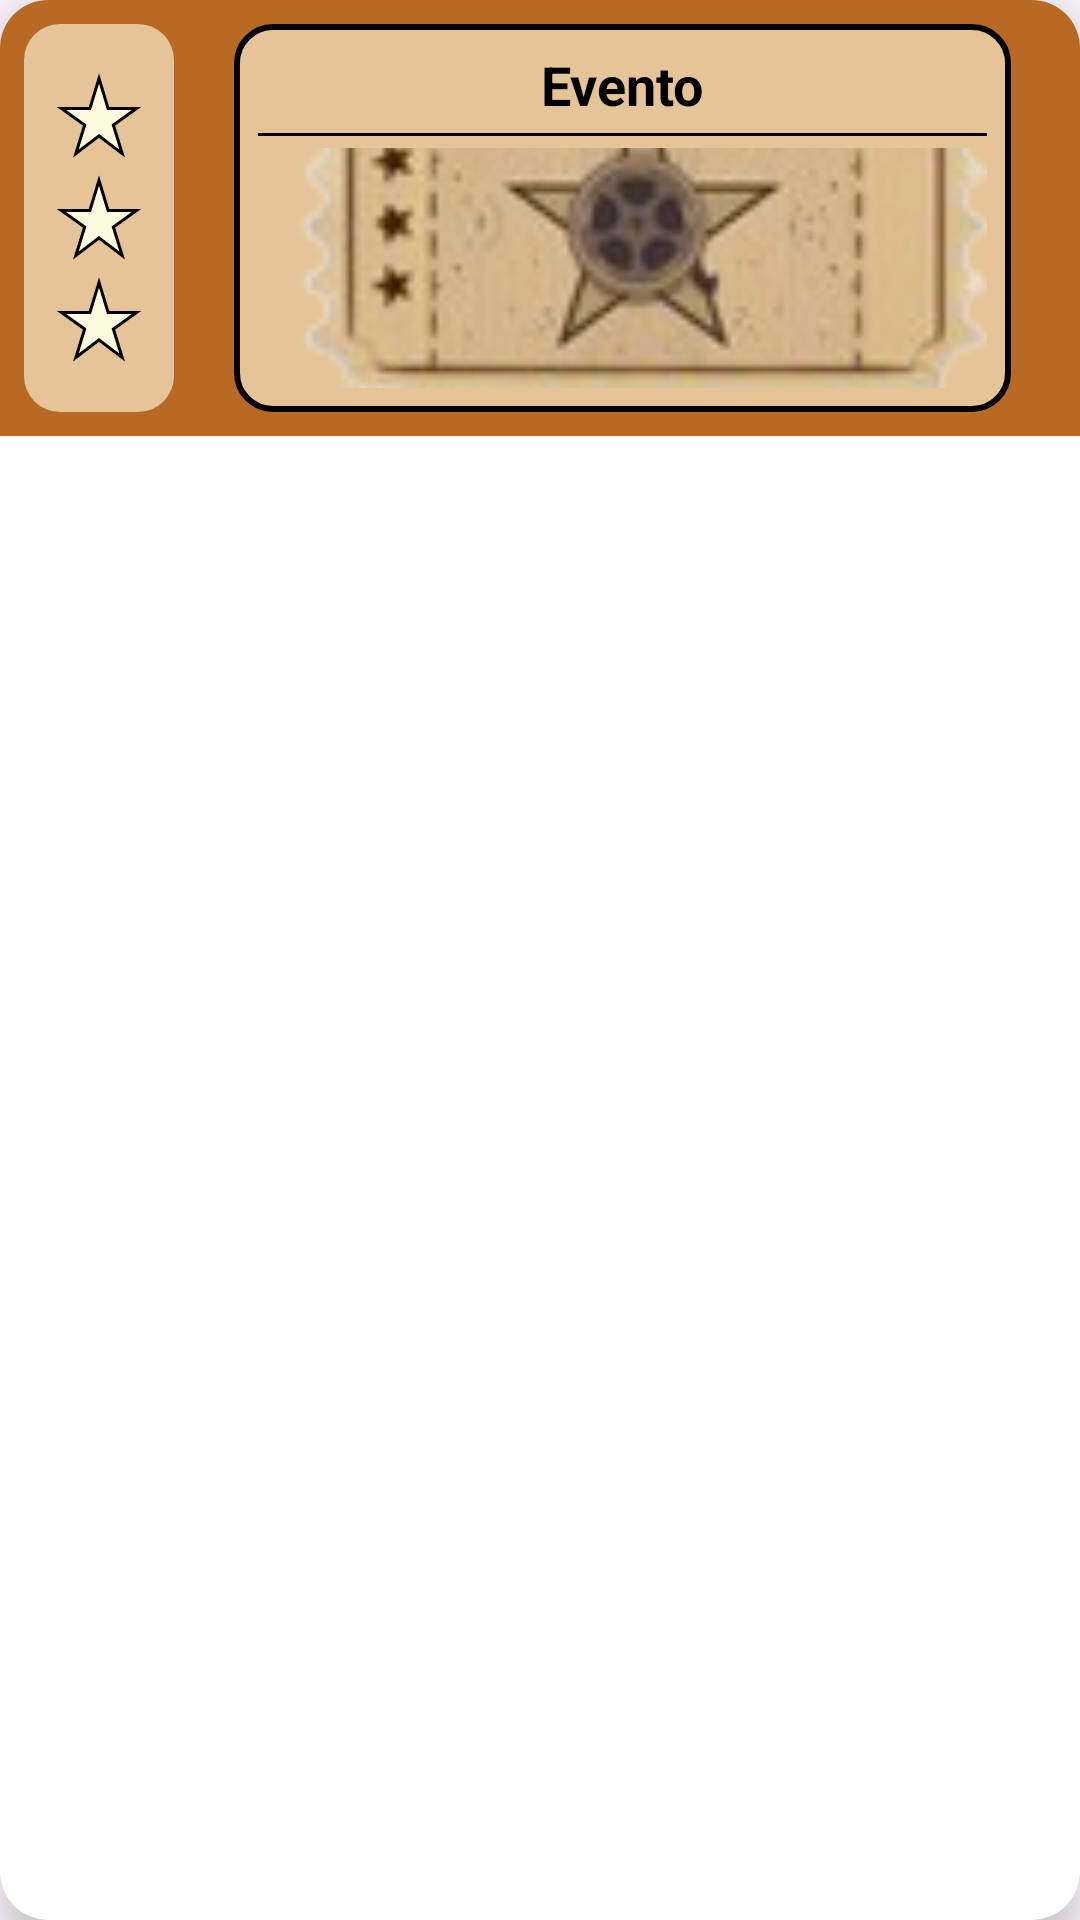

Screen size 1080 x 1920. Icon name, then its center in pixels as (x=x, y=y):
star: (x=99, y=116), (x=99, y=218), (x=99, y=320)
